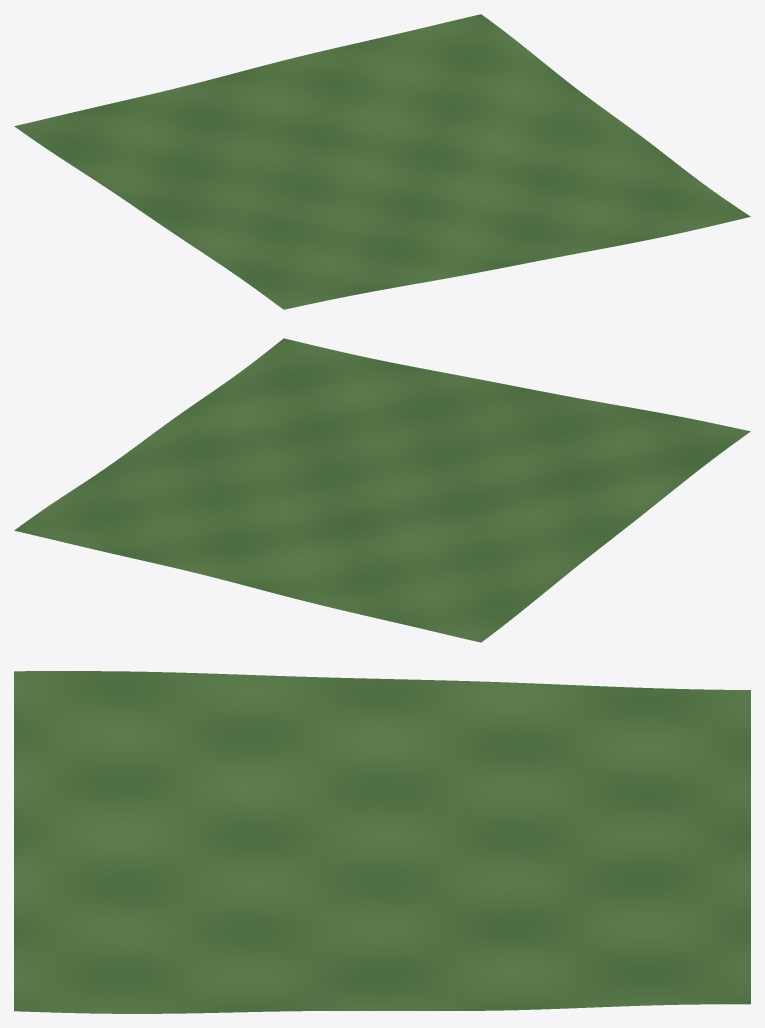
The model's file is chunk_1_5.glb.
3 renders of one model, top to bottom at view 1: azimuth 30°, elevation 25°; view 2: azimuth 150°, elevation 25°; view 3: azimuth 270°, elevation 25°, orthographic. The views are drawn at different scales.
Size of the model in its own units: 512 by 24.13 by 512.
